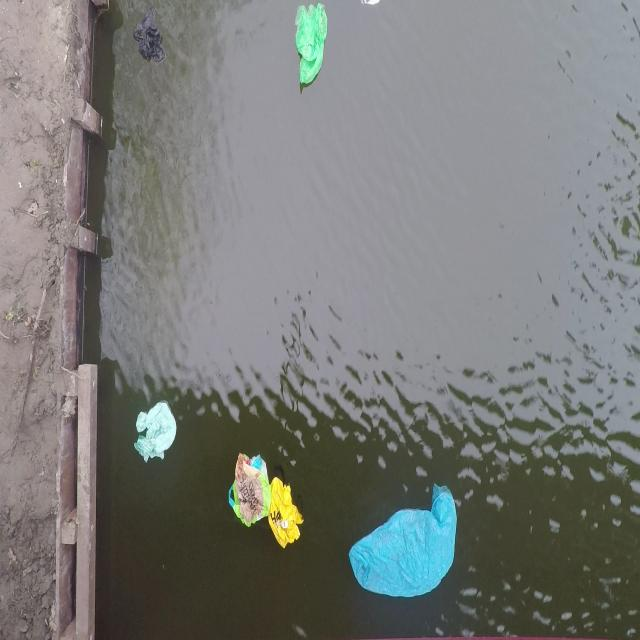Sac plastique: (347, 482, 463, 608), (225, 442, 269, 532), (292, 1, 334, 94), (269, 477, 308, 556), (134, 402, 180, 466), (136, 7, 166, 68)
